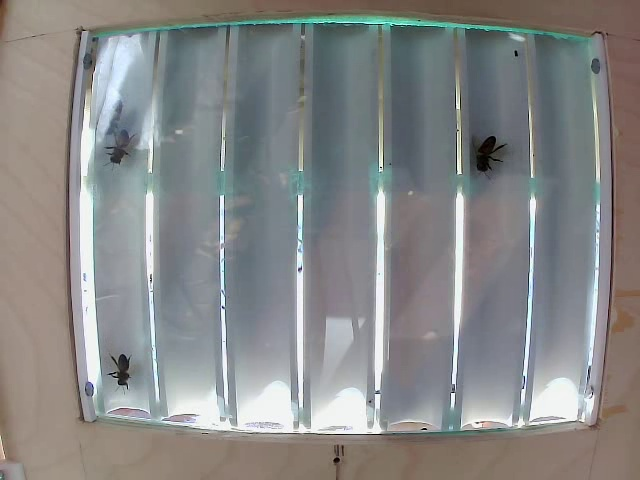bee: (467, 132, 509, 180), (105, 128, 145, 170), (103, 340, 140, 373)
